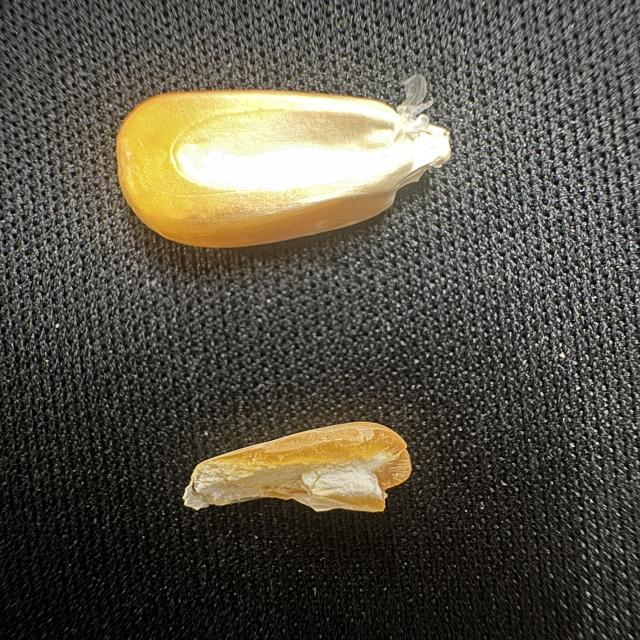Bad-Seed: (161, 415, 436, 527)
Good-Seed: (98, 70, 478, 257)
